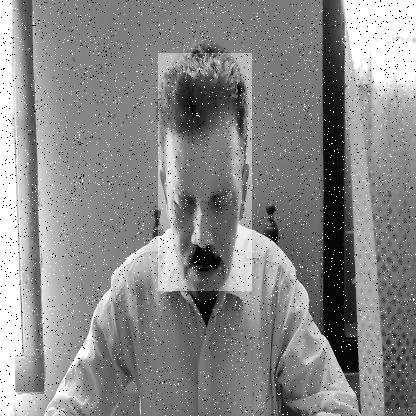Normal: (158, 53, 252, 291)
